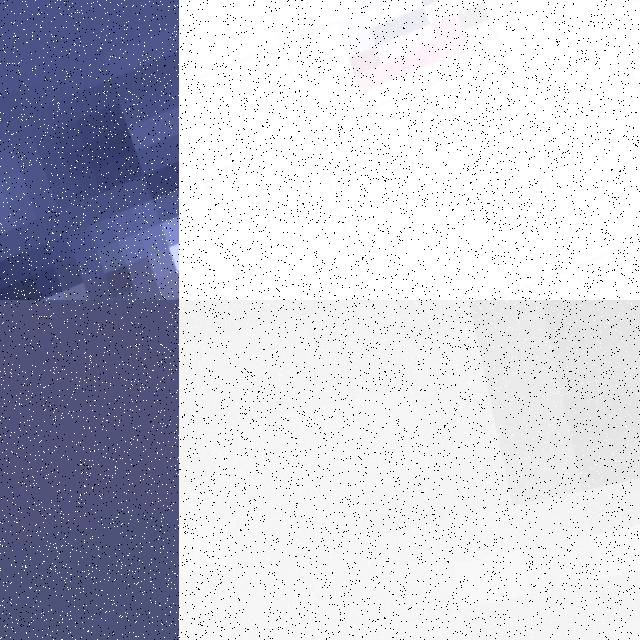0: (0, 0, 179, 300)
drone: (179, 0, 640, 300)
